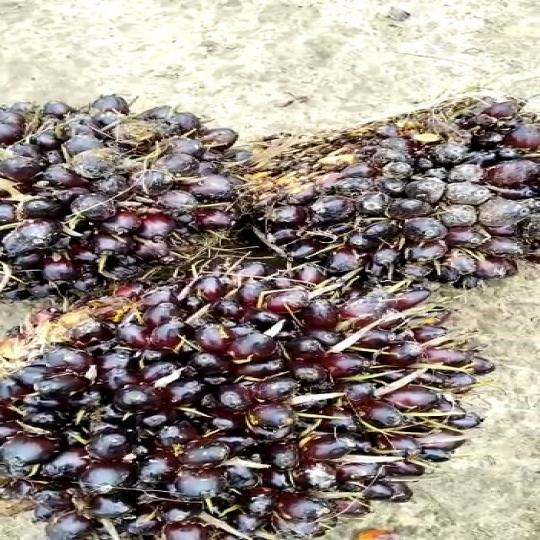mentah: (0, 250, 534, 539), (0, 97, 540, 303)
